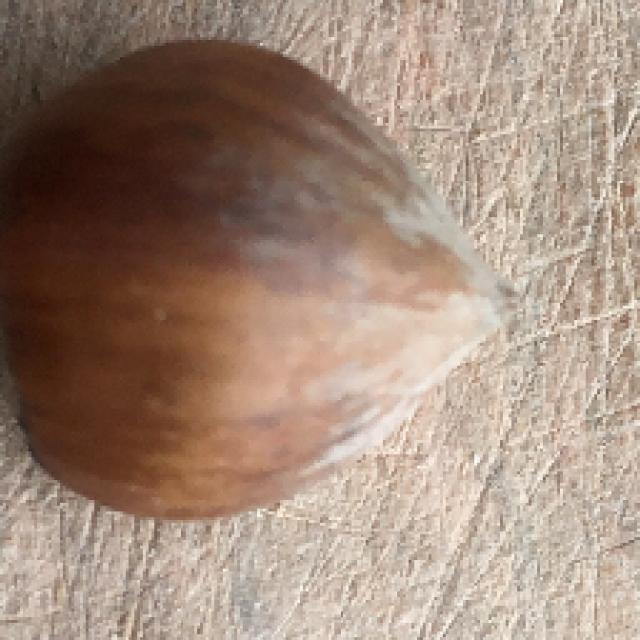qualityHazelnut: (5, 26, 510, 525)
